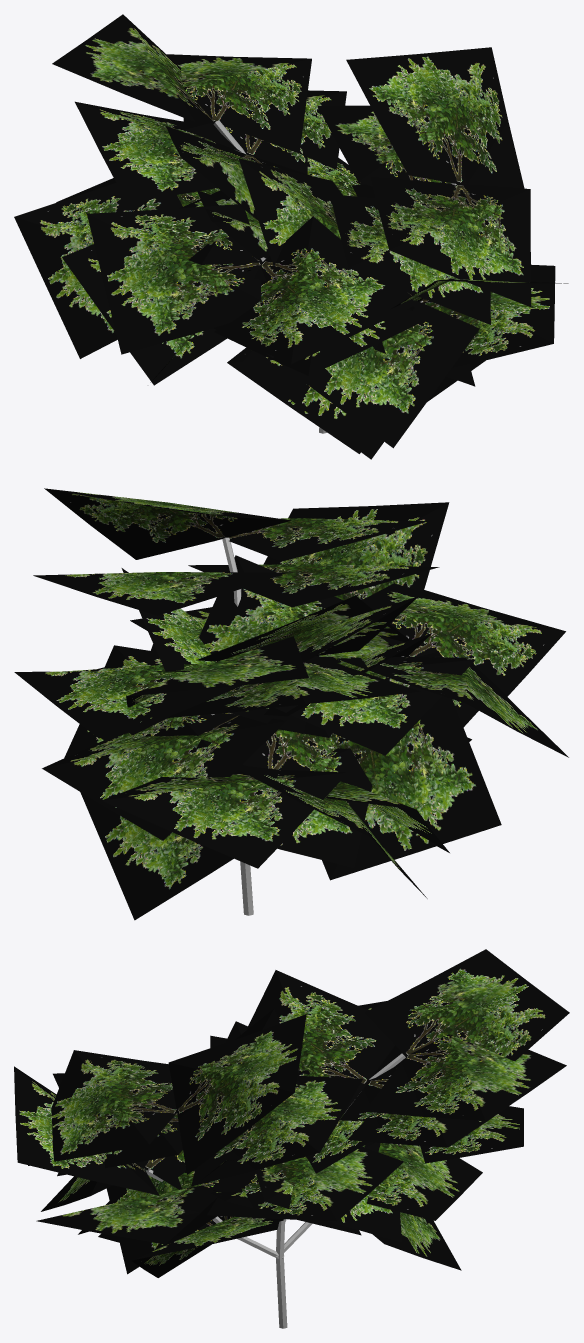
Rendered from Arbusto.fbx.
3 renders of one model, top to bottom at view 1: azimuth 30°, elevation 25°; view 2: azimuth 150°, elevation 25°; view 3: azimuth 270°, elevation 25°, orthographic. The views are drawn at different scales.
Parts seen in each view (by area): view 1: Folha; view 2: Folha, Galho; view 3: Folha, Galho.
Boxes of the visible parts, bbox=[...] form: Folha: bbox=[14, 14, 568, 459]; Folha: bbox=[14, 488, 568, 920]; Galho: bbox=[222, 537, 403, 915]; Folha: bbox=[14, 949, 569, 1277]; Galho: bbox=[146, 1053, 405, 1328].
Size of the model in its own units: 191 by 155 by 237.
2 materials, 1 textured.
